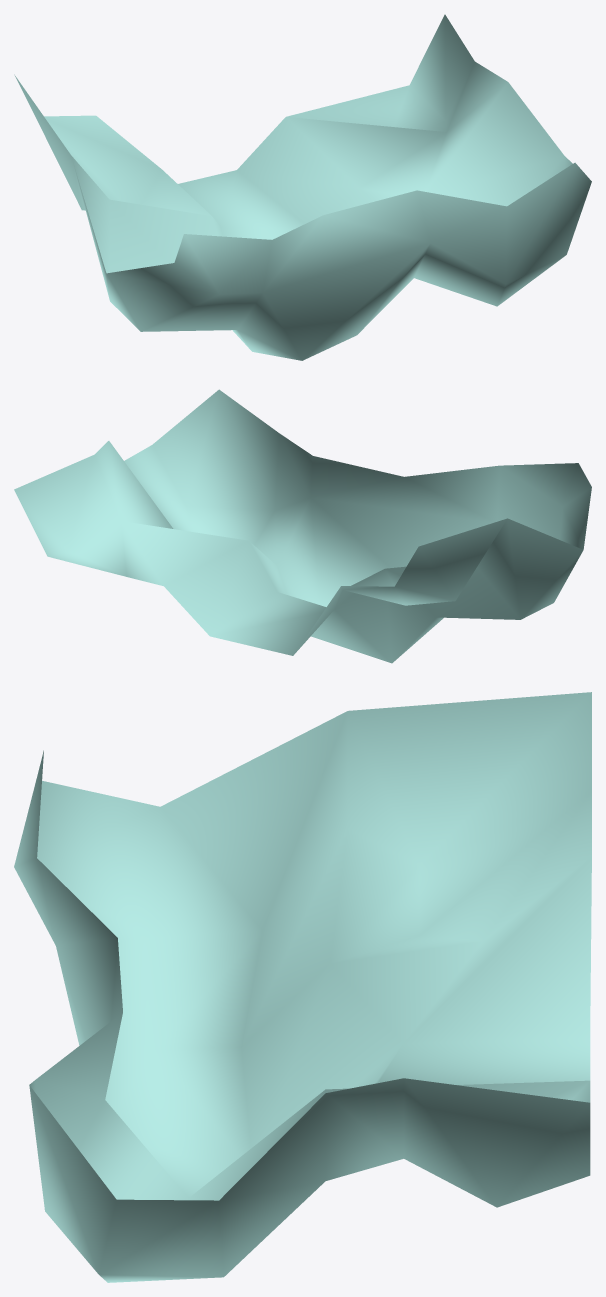
3 renders of one model, top to bottom at view 1: azimuth 30°, elevation 25°; view 2: azimuth 150°, elevation 25°; view 3: azimuth 270°, elevation 25°, orthographic. The views are drawn at different scales.
Parts seen in each view (by area): view 1: Object43; view 2: Object43; view 3: Object43.
Boxes of the visible parts, x1,y1,x2,y2 form: Object43: (14,14,591,360); Object43: (14,389,591,663); Object43: (14,692,591,1282).
Bounding box in the file's own units: 40297 × 18889 × 26281.
